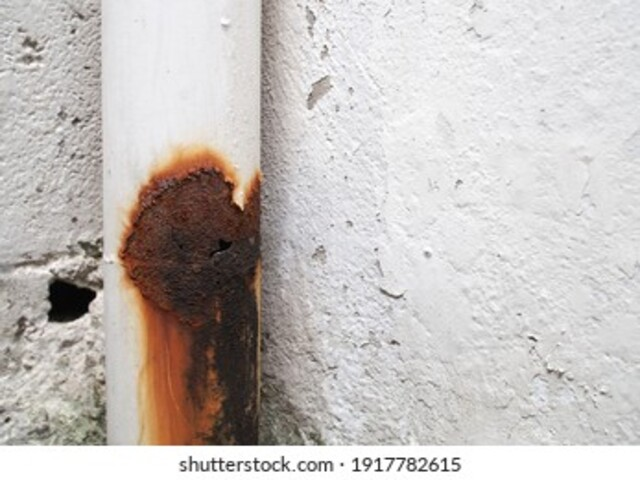Severe: (115, 150, 265, 442)
